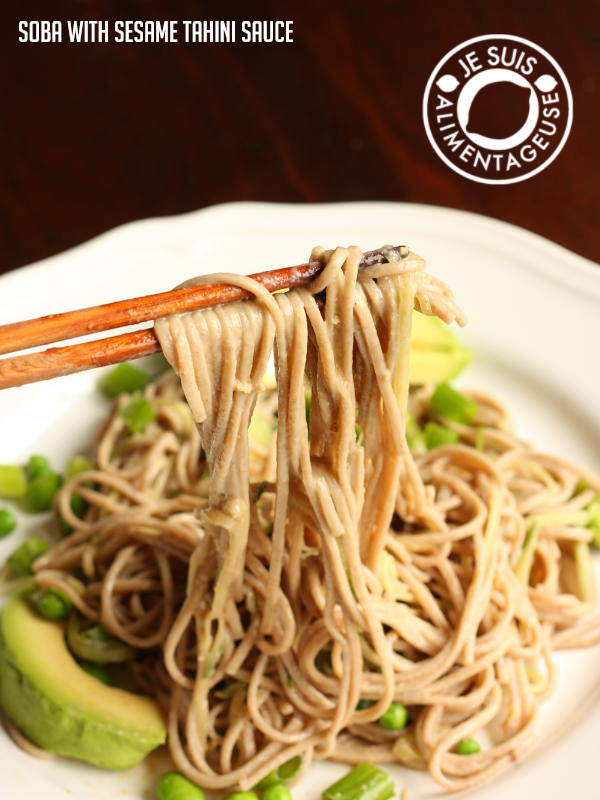Soba: (105, 242, 598, 800)
